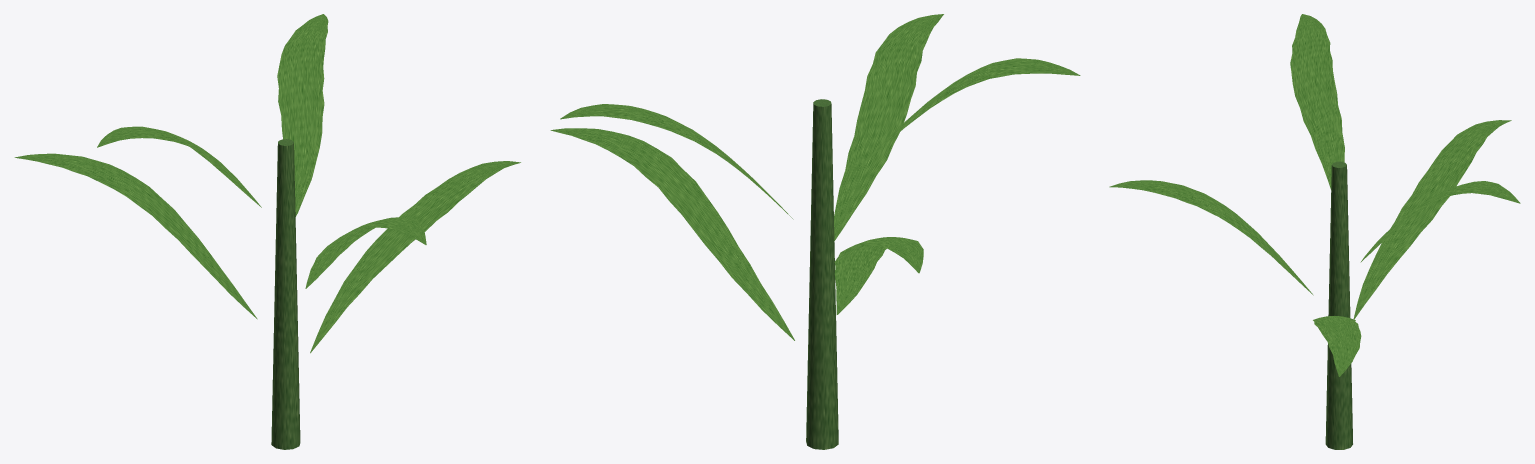
The model's file is PZ_Crop_Corn_Sprout.glb.
The picture shows the model from 3 angles, left to right: view 1: azimuth 30°, elevation 25°; view 2: azimuth 150°, elevation 25°; view 3: azimuth 270°, elevation 25°; orthographic projection. The views are drawn at different scales.
Visible parts, largest first — view 1: PZ_Crop_Corn_Sprout_02_Curved_Broad_Blades, PZ_Crop_Corn_Sprout_01_Culm; view 2: PZ_Crop_Corn_Sprout_02_Curved_Broad_Blades, PZ_Crop_Corn_Sprout_01_Culm; view 3: PZ_Crop_Corn_Sprout_02_Curved_Broad_Blades, PZ_Crop_Corn_Sprout_01_Culm.
Part boxes in pixels (left/top/right/bottom): PZ_Crop_Corn_Sprout_02_Curved_Broad_Blades: left=14, top=14, right=520, bottom=353; PZ_Crop_Corn_Sprout_01_Culm: left=271, top=139, right=300, bottom=449; PZ_Crop_Corn_Sprout_02_Curved_Broad_Blades: left=550, top=14, right=1080, bottom=340; PZ_Crop_Corn_Sprout_01_Culm: left=806, top=99, right=838, bottom=449; PZ_Crop_Corn_Sprout_02_Curved_Broad_Blades: left=1109, top=14, right=1520, bottom=376; PZ_Crop_Corn_Sprout_01_Culm: left=1325, top=161, right=1352, bottom=449.
Size of the model in its own units: 0.3134 by 0.246 by 0.2692.
Materials: 2 (2 with a texture image).
